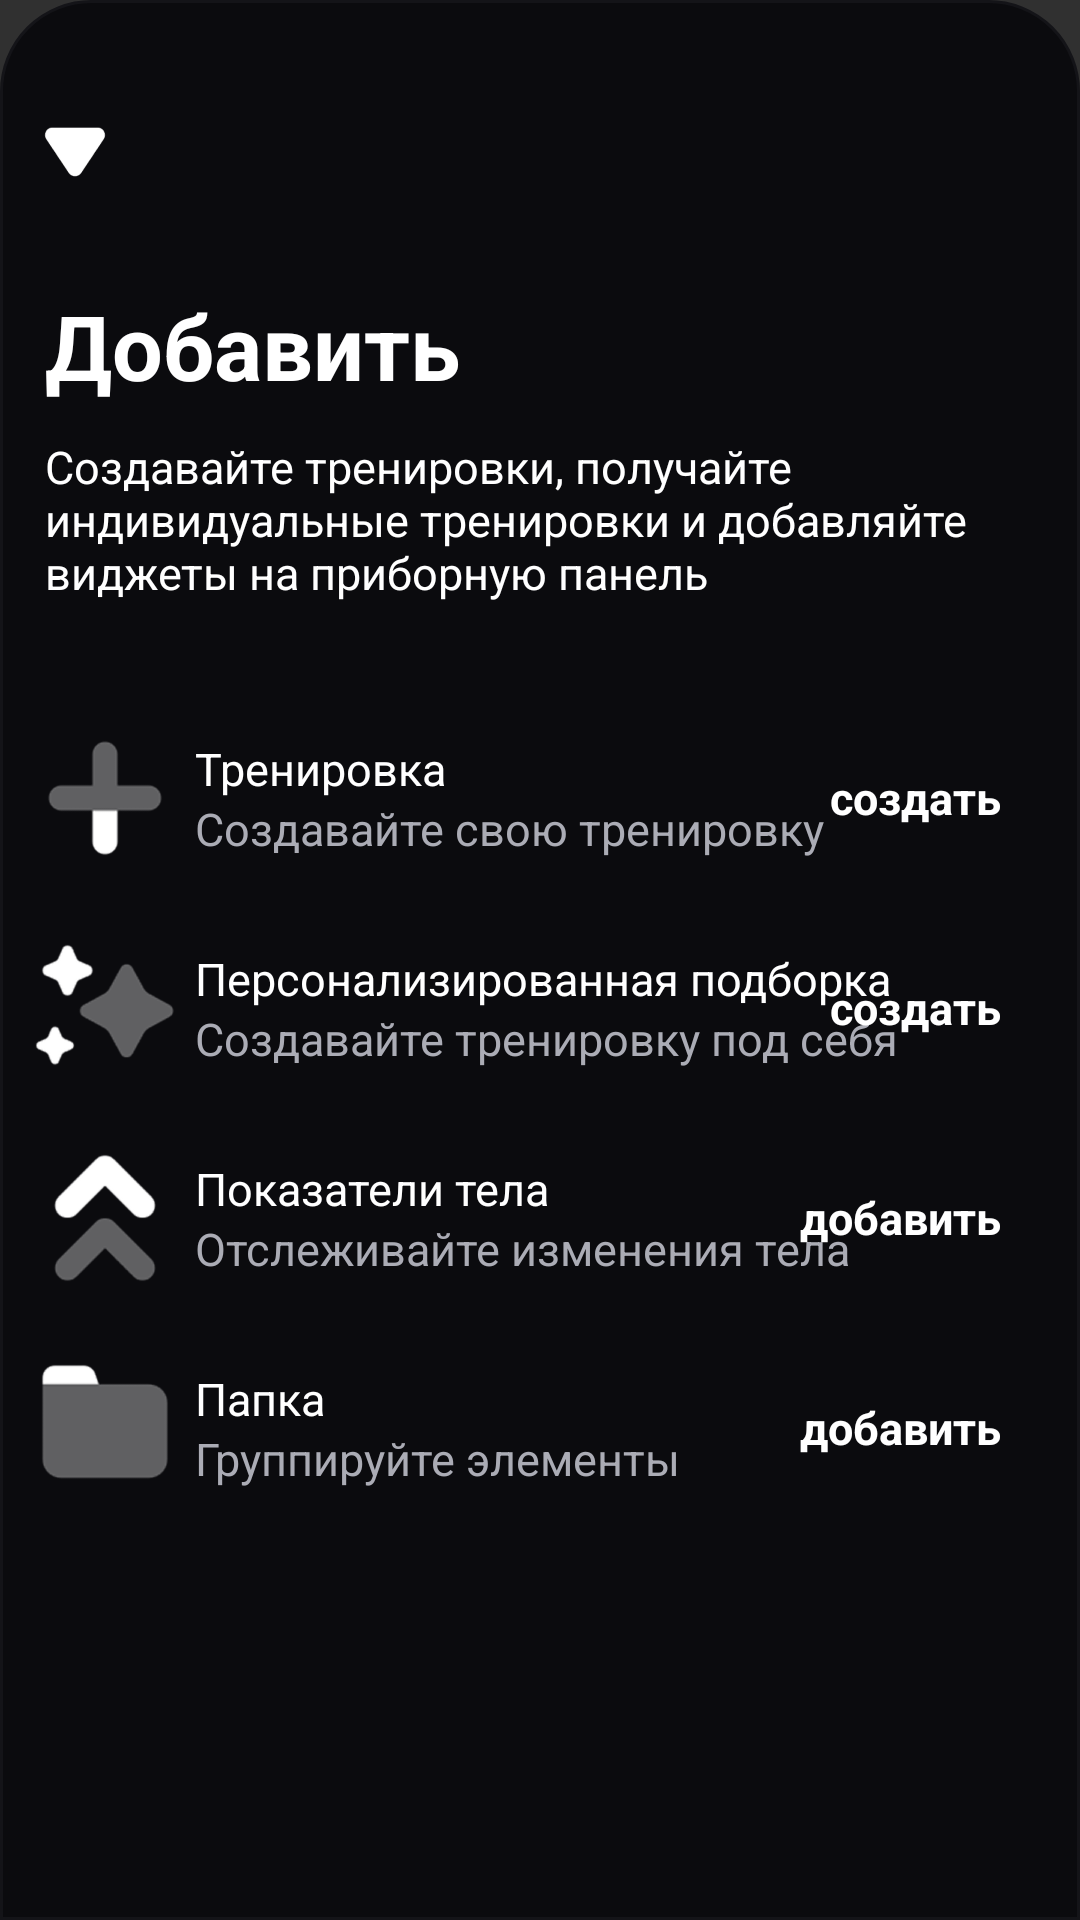

Where icons sit on this 1080px x 1920px app screen, as (x1, y1, x2, y2):
arrowdown: (45, 127, 105, 177)
folder: (42, 1365, 168, 1478)
plus: (49, 742, 161, 855)
stars: (36, 945, 173, 1065)
